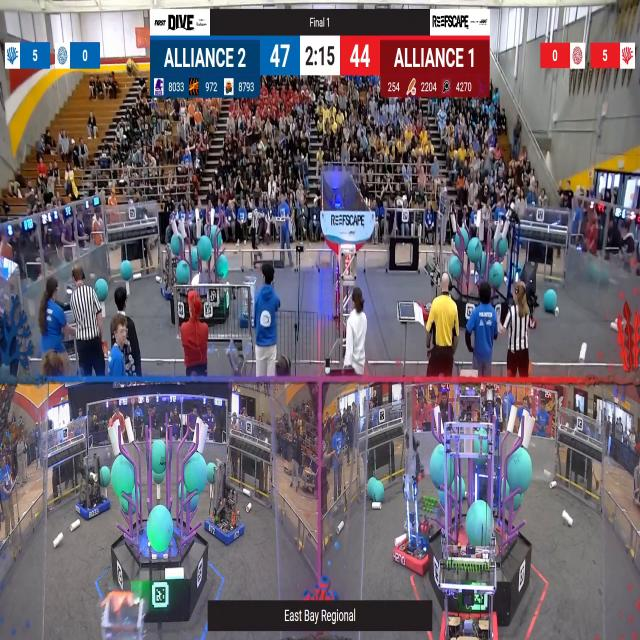scoreboard: (150, 38, 490, 98)
